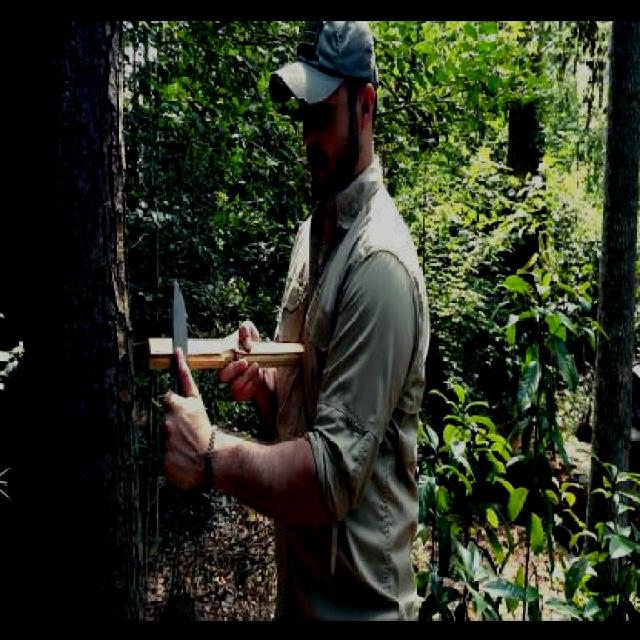knife: (162, 274, 202, 460)
